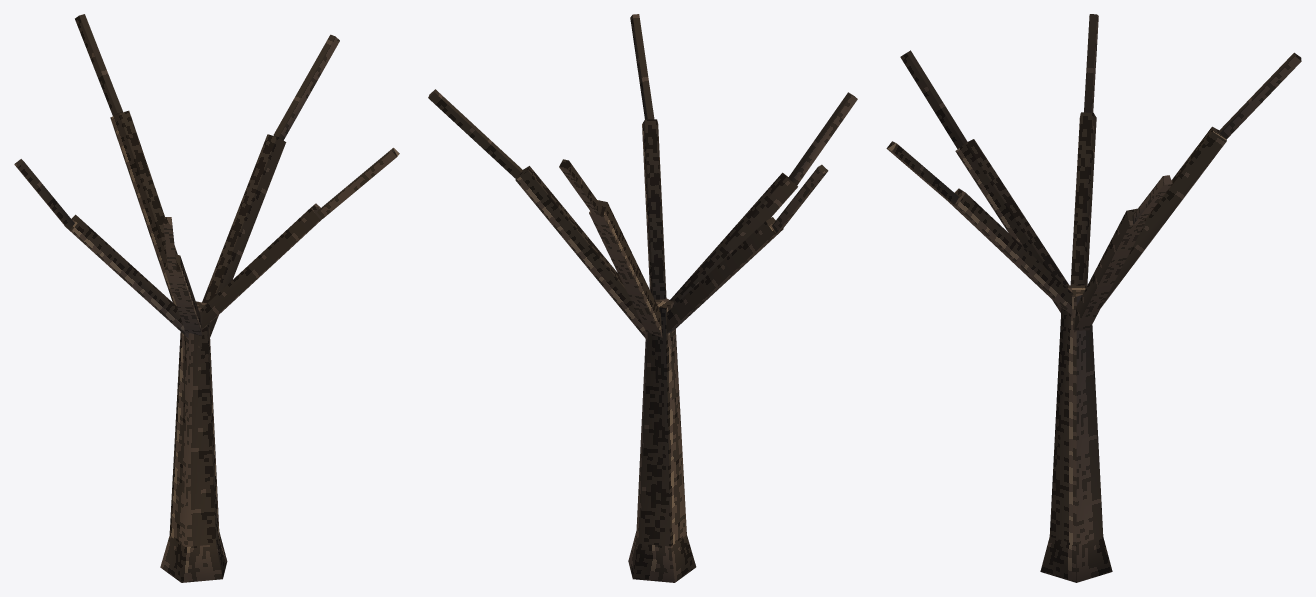
Rendered from mnat.dead_tree.glb.
3 views of the same model, side by side, from view 1: azimuth 30°, elevation 25°; view 2: azimuth 150°, elevation 25°; view 3: azimuth 270°, elevation 25° (orthographic). The views are drawn at different scales.
Parts seen in each view (by area): view 1: kit_trunk; view 2: kit_trunk; view 3: kit_trunk.
Boxes of the visible parts, x1,y1,x2,y2 form: kit_trunk: (14, 14, 399, 582); kit_trunk: (428, 14, 857, 582); kit_trunk: (886, 14, 1301, 582).
Size of the model in its own units: 4.64 by 5.96 by 4.42.
1 material, 1 textured.
